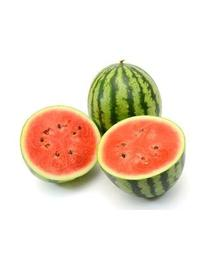watermelon: (18, 104, 187, 202), (88, 60, 161, 133)
